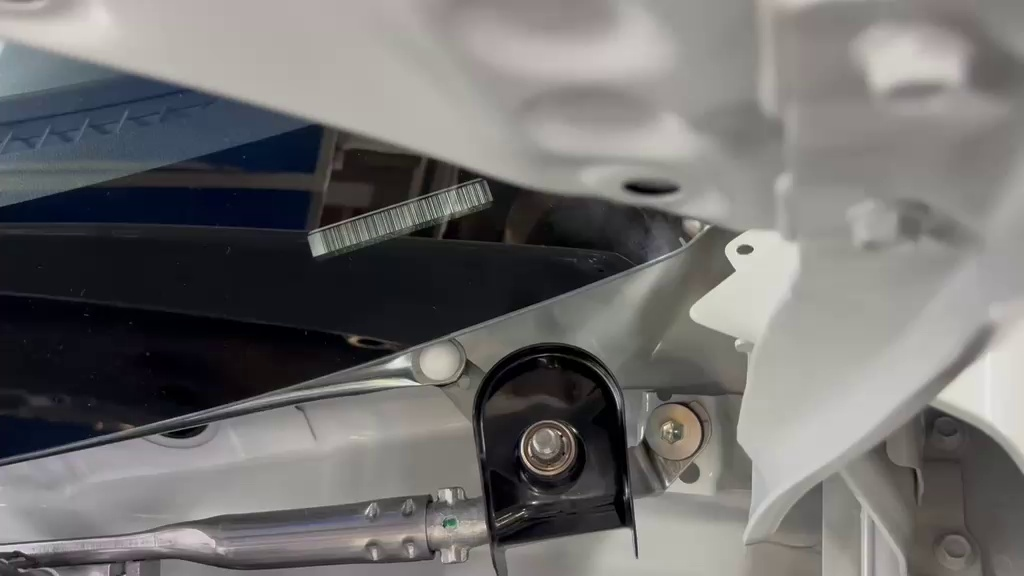barcode: (434, 331, 671, 575)
hinge: (286, 155, 515, 288)
